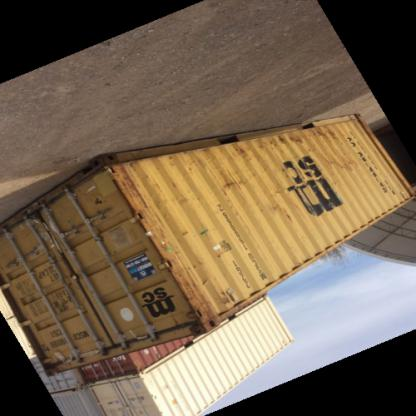Damage: (115, 168, 163, 244), (168, 264, 220, 328), (246, 130, 343, 151), (30, 210, 66, 260), (47, 284, 79, 324), (257, 204, 303, 230), (81, 182, 110, 218), (324, 163, 366, 183), (218, 180, 258, 194)
